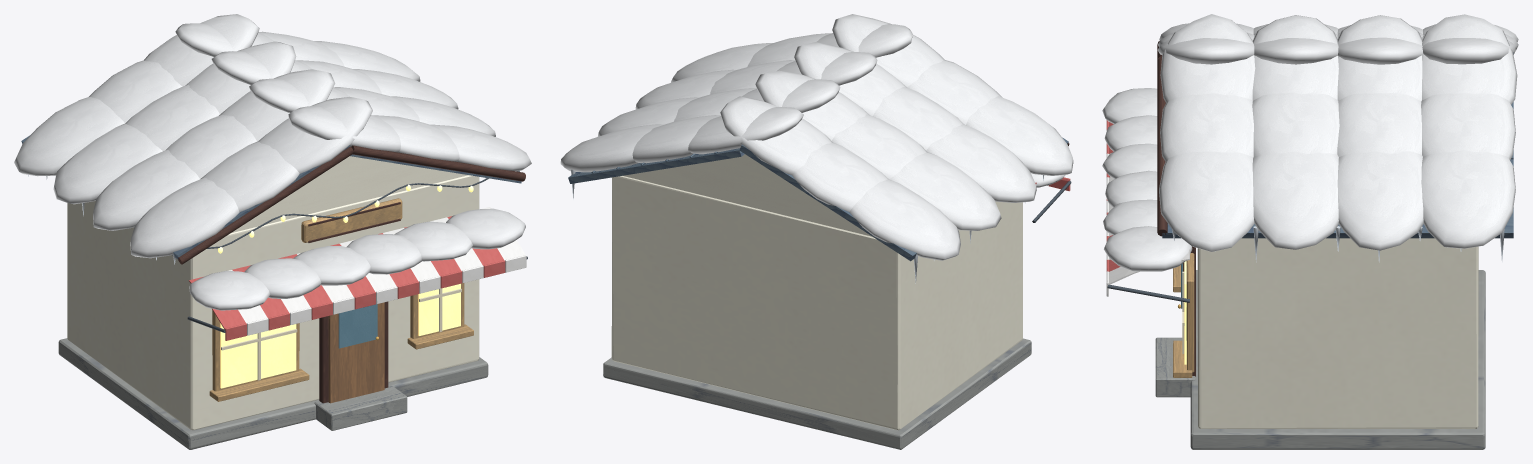
File: house_4.glb
3 renders of one model, left to right at view 1: azimuth 30°, elevation 25°; view 2: azimuth 150°, elevation 25°; view 3: azimuth 270°, elevation 25°, orthographic. The views are drawn at different scales.
Visible parts, largest first — view 1: house_4; view 2: house_4; view 3: house_4.
Part boxes in pixels (x1,y1,x2,y2): house_4: (14, 14, 531, 449); house_4: (560, 14, 1073, 449); house_4: (1102, 14, 1518, 449).
Bounding box in the file's own units: 6.6 × 4.76 × 5.34.
4 materials, 4 textured.
